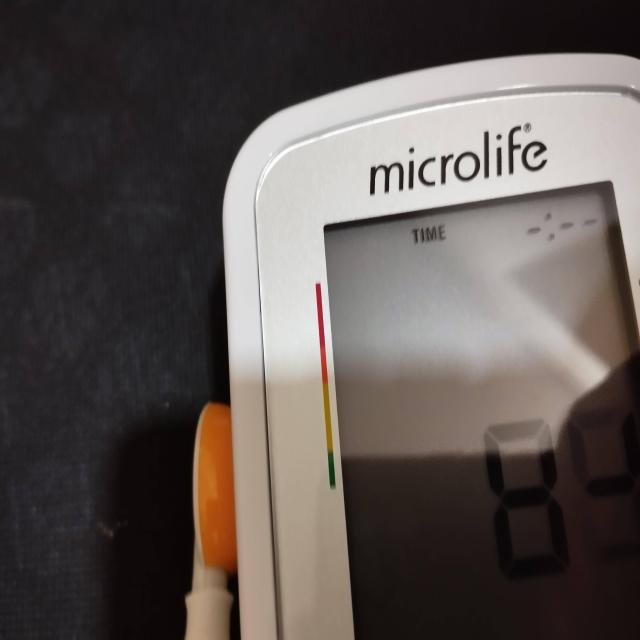bp: (208, 53, 640, 640)
